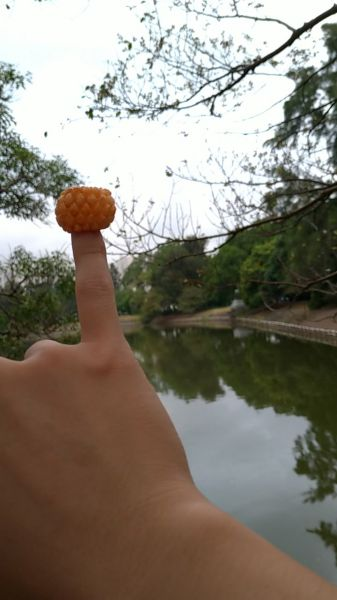eggs: (55, 187, 116, 233)
